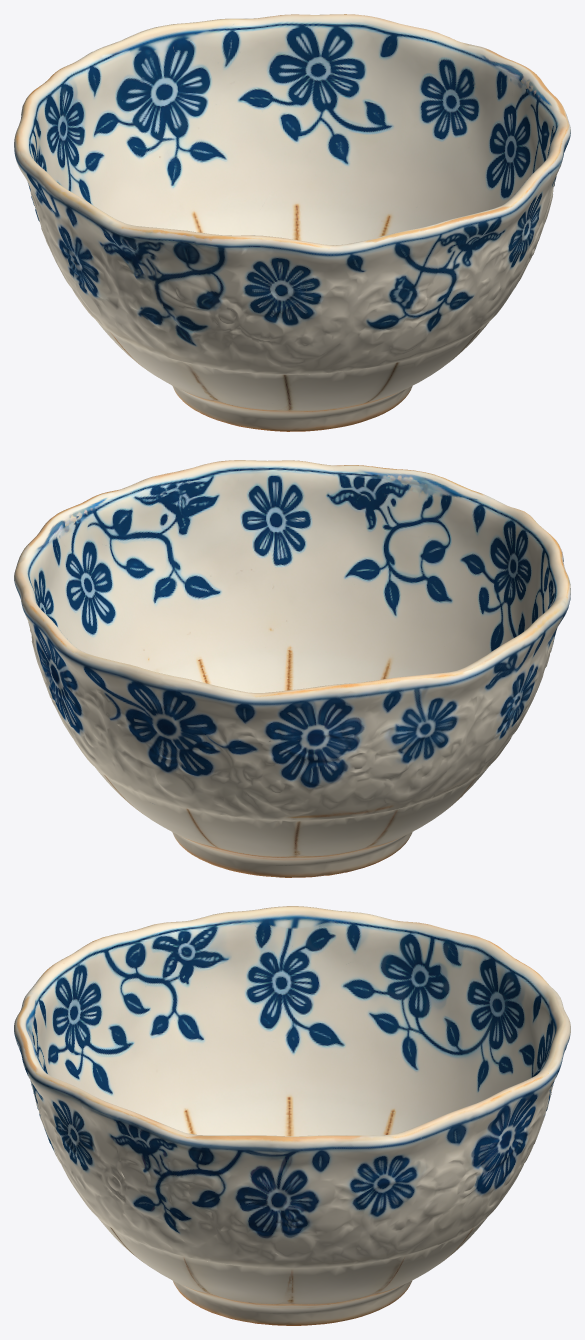
Rendered from cousin_9.glb.
The picture shows the model from 3 angles, top to bottom: view 1: azimuth 30°, elevation 25°; view 2: azimuth 150°, elevation 25°; view 3: azimuth 270°, elevation 25°; orthographic projection.
Bounding box in the file's own units: 1.91 × 0.9745 × 1.91.
1 material, 1 textured.
